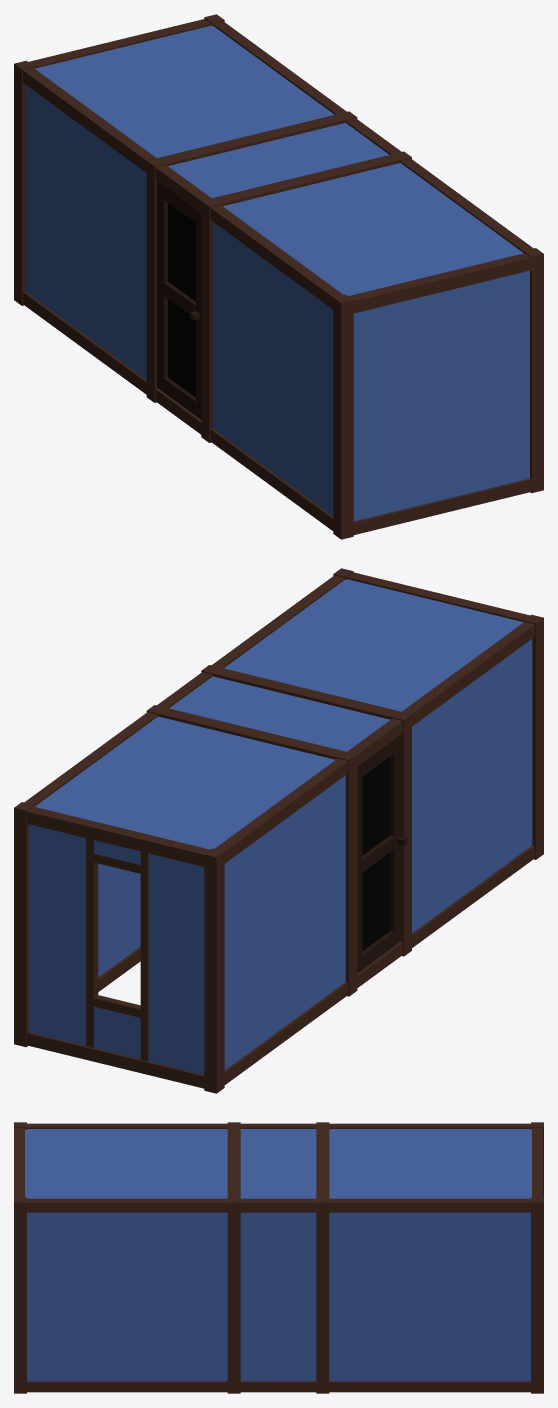
File: Chicken_pen_01_A.gltf
3 views of the same model, one above another, from view 1: azimuth 30°, elevation 25°; view 2: azimuth 150°, elevation 25°; view 3: azimuth 270°, elevation 25° (orthographic). The views are drawn at different scales.
Parts seen in each view (by area): view 1: Chicken_pen_01_A, Cube; view 2: Chicken_pen_01_A, Cube; view 3: Chicken_pen_01_A.
Part boxes in pixels (x1,y1,x2,y2): Chicken_pen_01_A: (14,14,543,539); Cube: (157,181,201,419); Chicken_pen_01_A: (14,568,543,1093); Cube: (357,735,407,973); Chicken_pen_01_A: (14,1122,543,1393).
Size of the model in its own units: 0.7544 by 0.8169 by 2.05.
